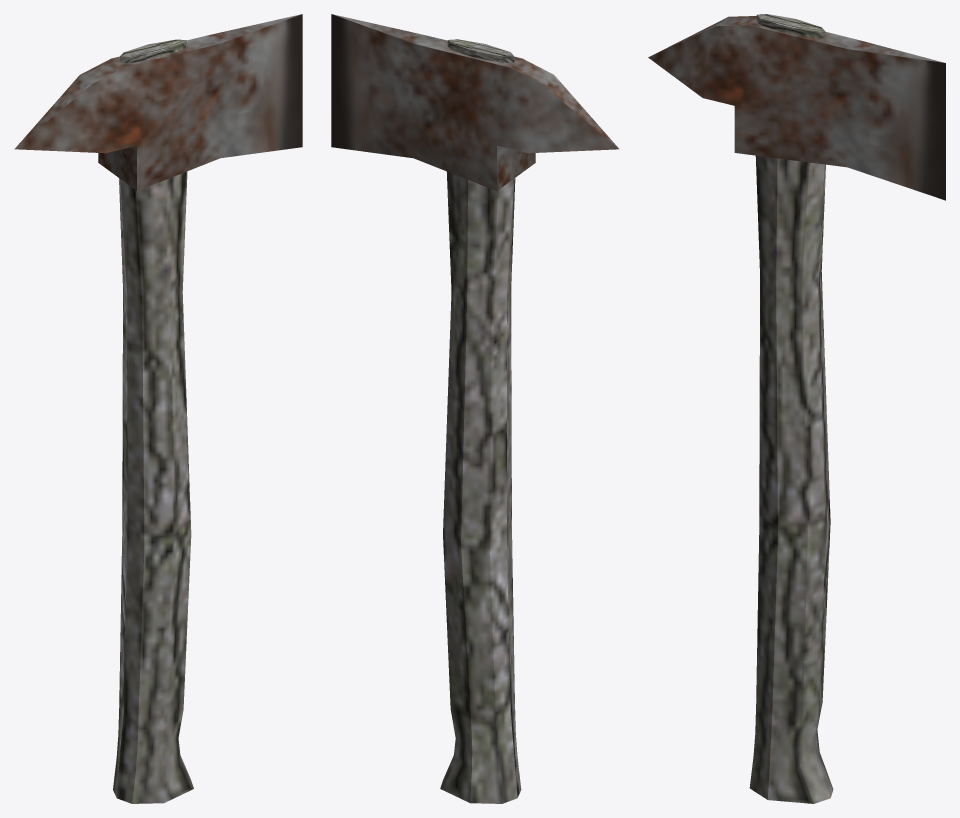
Rendered from ps1_axe.fbx.
The picture shows the model from 3 angles, left to right: view 1: azimuth 30°, elevation 25°; view 2: azimuth 150°, elevation 25°; view 3: azimuth 330°, elevation 25°; orthographic projection. The views are drawn at different scales.
Visible parts, largest first — view 1: Ps1 axe; view 2: Ps1 axe; view 3: Ps1 axe.
Part boxes in pixels (x1=…): Ps1 axe: x1=14, y1=14, x2=302, y2=803; Ps1 axe: x1=331, y1=14, x2=619, y2=803; Ps1 axe: x1=648, y1=14, x2=945, y2=803.
Size of the model in its own units: 86.04 by 211 by 20.09.
